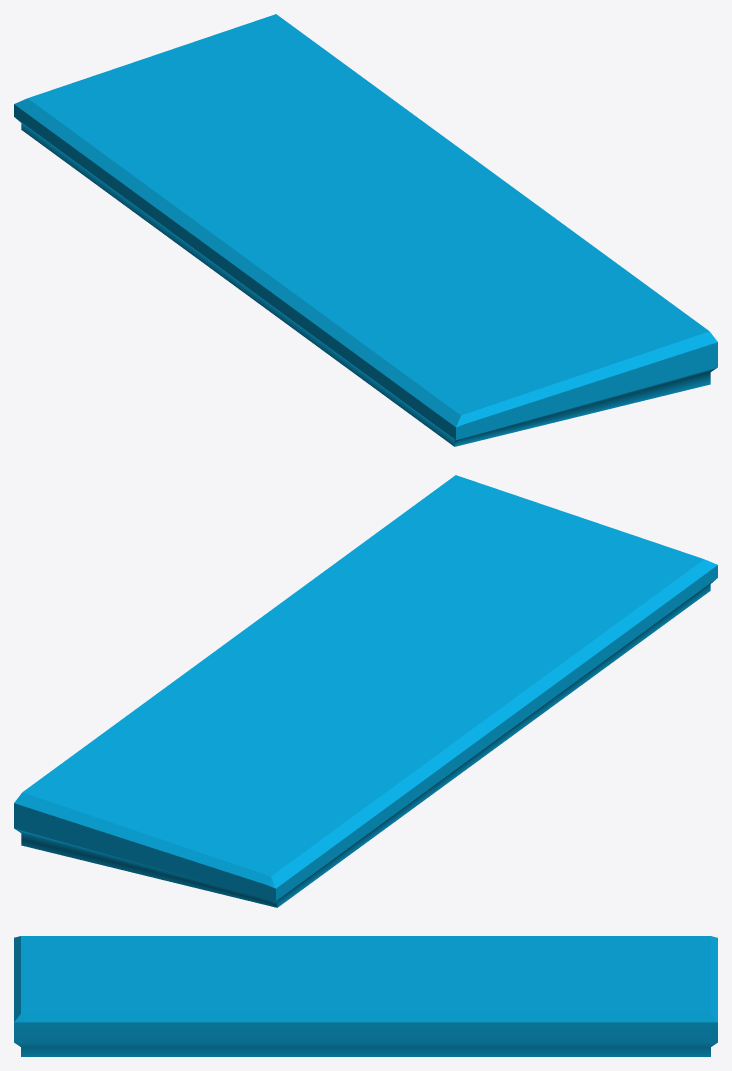
The model's file is Keyboard_Lod0.fbx.
3 views of the same model, one above another, from view 1: azimuth 30°, elevation 25°; view 2: azimuth 150°, elevation 25°; view 3: azimuth 270°, elevation 25° (orthographic). The views are drawn at different scales.
Visible parts, largest first — view 1: Keyboard_Lod0; view 2: Keyboard_Lod0; view 3: Keyboard_Lod0.
Boxes of the visible parts, <box> form: Keyboard_Lod0: <box>14,14,717,446</box>; Keyboard_Lod0: <box>14,475,717,907</box>; Keyboard_Lod0: <box>14,936,717,1056</box>.
Bounding box in the file's own units: 17.58 × 3.43 × 51.41.
